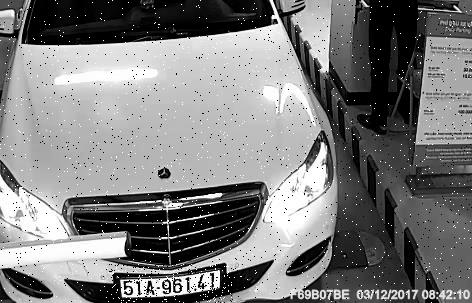License-plate: (107, 265, 234, 303)
